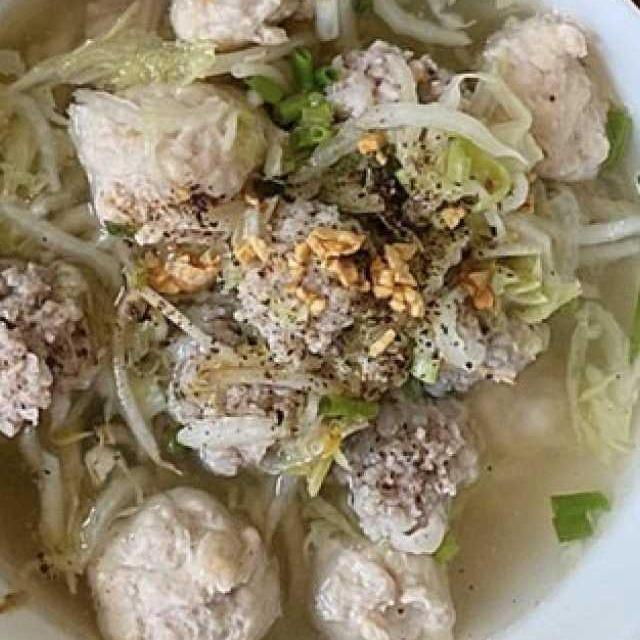vien moc: (232, 188, 420, 391), (59, 75, 285, 233), (75, 480, 292, 640), (324, 378, 497, 555), (464, 7, 617, 184), (0, 238, 105, 446), (401, 253, 551, 395), (301, 527, 472, 640), (311, 25, 459, 149), (146, 0, 342, 52)
